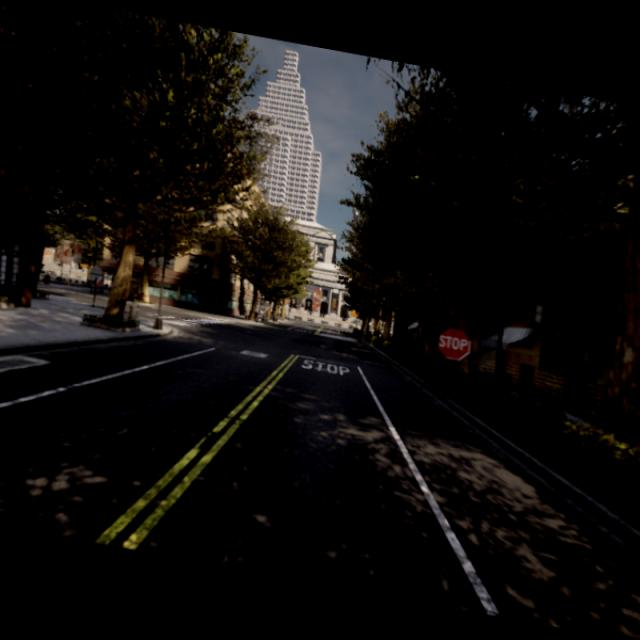stop sign: (435, 324, 473, 363)
